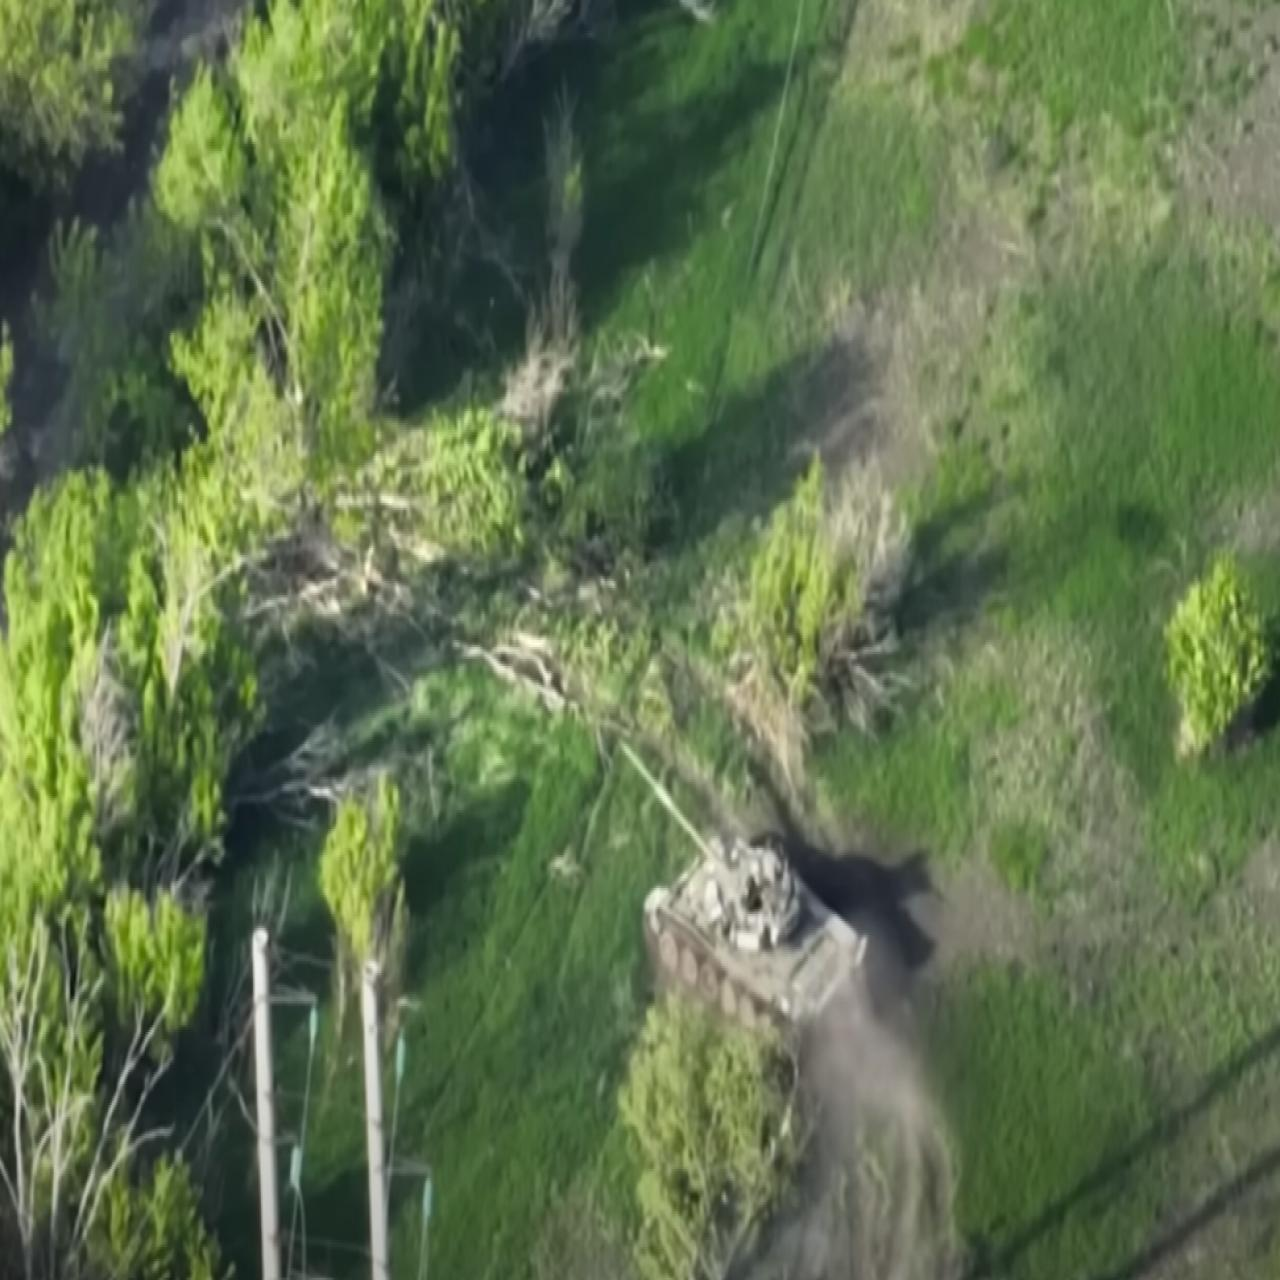MIL_Veh: (606, 733, 871, 1054)
